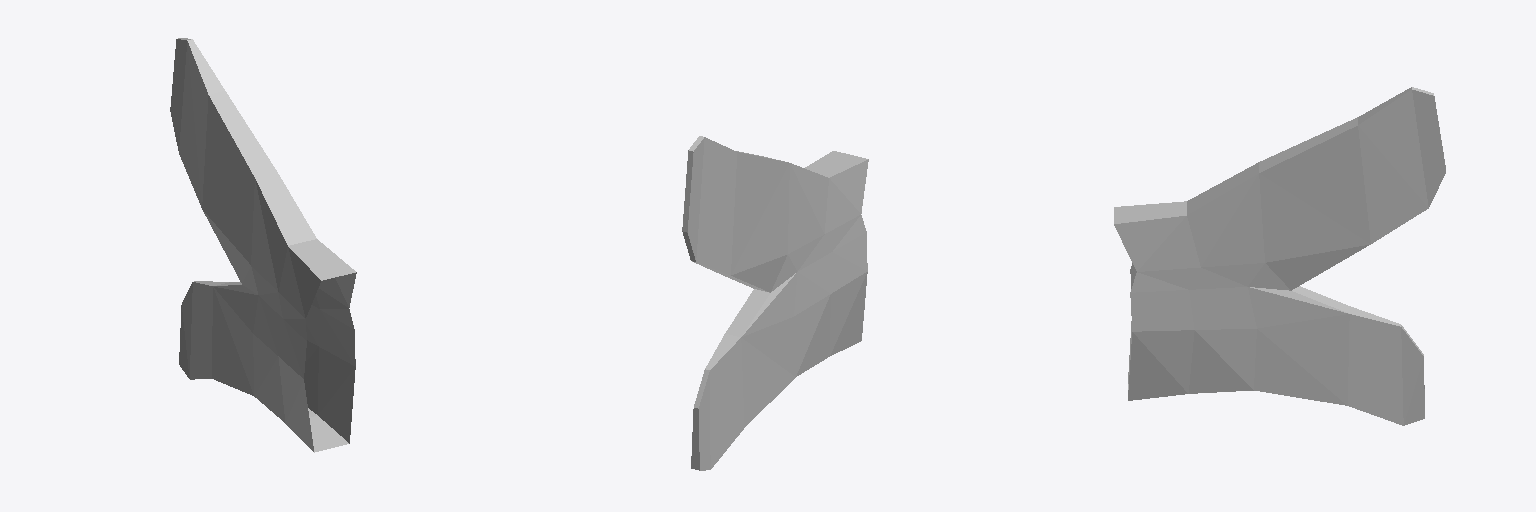
Rendered from cola.obj.
3 renders of one model, left to right at view 1: azimuth 30°, elevation 25°; view 2: azimuth 150°, elevation 25°; view 3: azimuth 270°, elevation 25°, orthographic.
Visible parts, largest first — view 1: polySurface17 TropicalFish07; view 2: polySurface17 TropicalFish07; view 3: polySurface17 TropicalFish07.
Boxes of the visible parts, x1,y1,x2,y2 form: polySurface17 TropicalFish07: [170, 38, 356, 452]; polySurface17 TropicalFish07: [682, 136, 868, 470]; polySurface17 TropicalFish07: [1114, 87, 1445, 425].
Size of the model in its own units: 0.1704 by 1.06 by 0.9486.